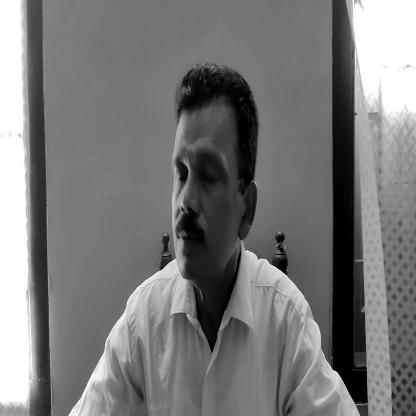Distracted: (169, 72, 258, 288)
